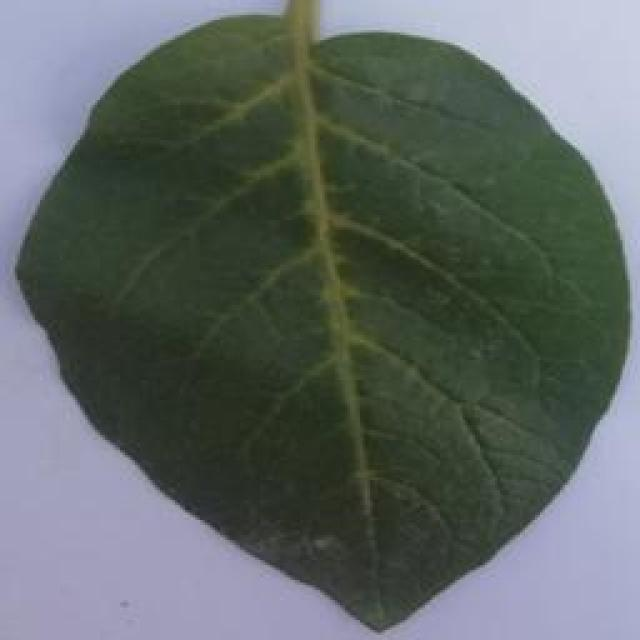Potato_Healthy: (15, 12, 621, 633)
